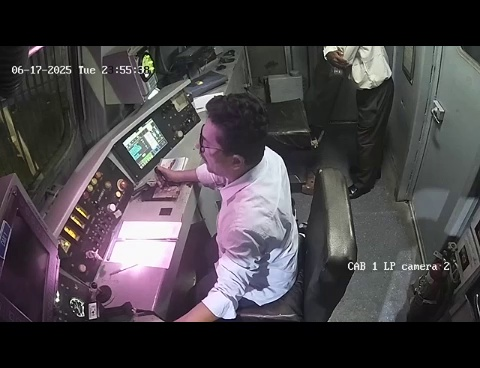horn_inactive: (76, 256, 136, 317)
